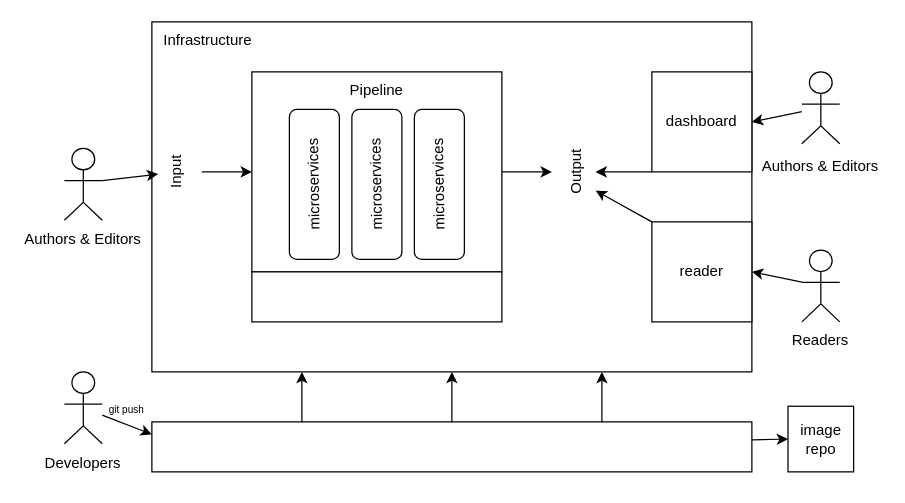
This 905x503 diagram has some shape labels left out. The shapes that lost their labels are listed below. From the top down, each one's centre as x and y in pixels, then its label:
At point 376,296: "mammoth".
At point 451,446: "CI pipeline".
